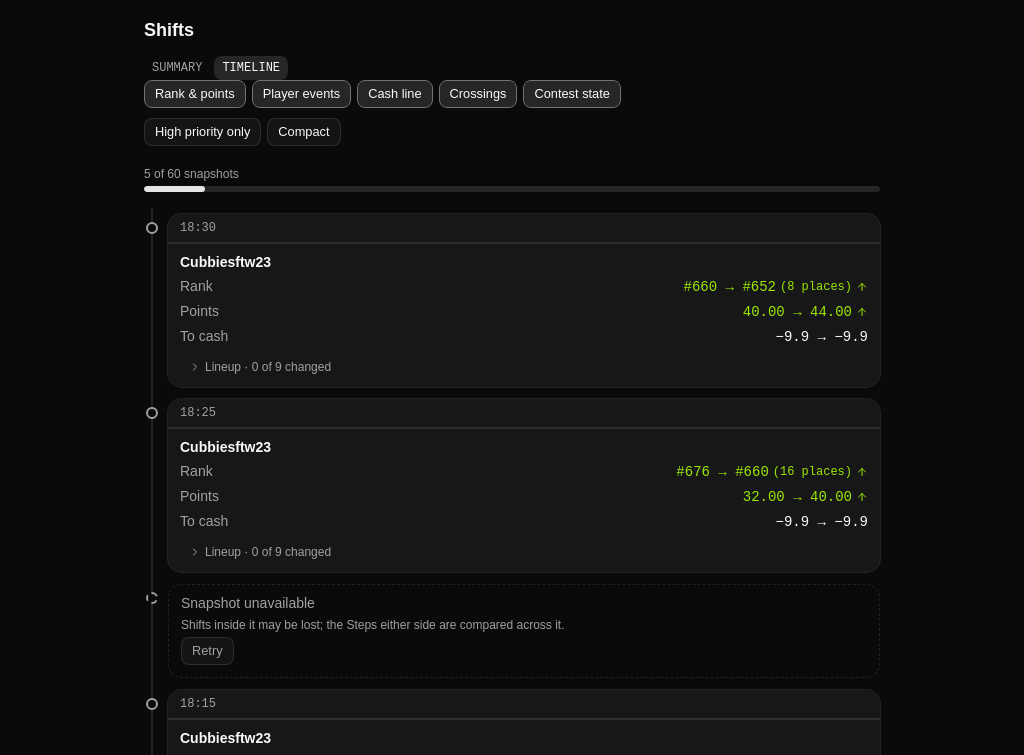
Test case: the Timeline tab › gaps › retries only the failed snapshot and fills the Step
This screenshot has width=1024, height=755.
Click the button "Retry": (207, 651) [181,637,234,665]
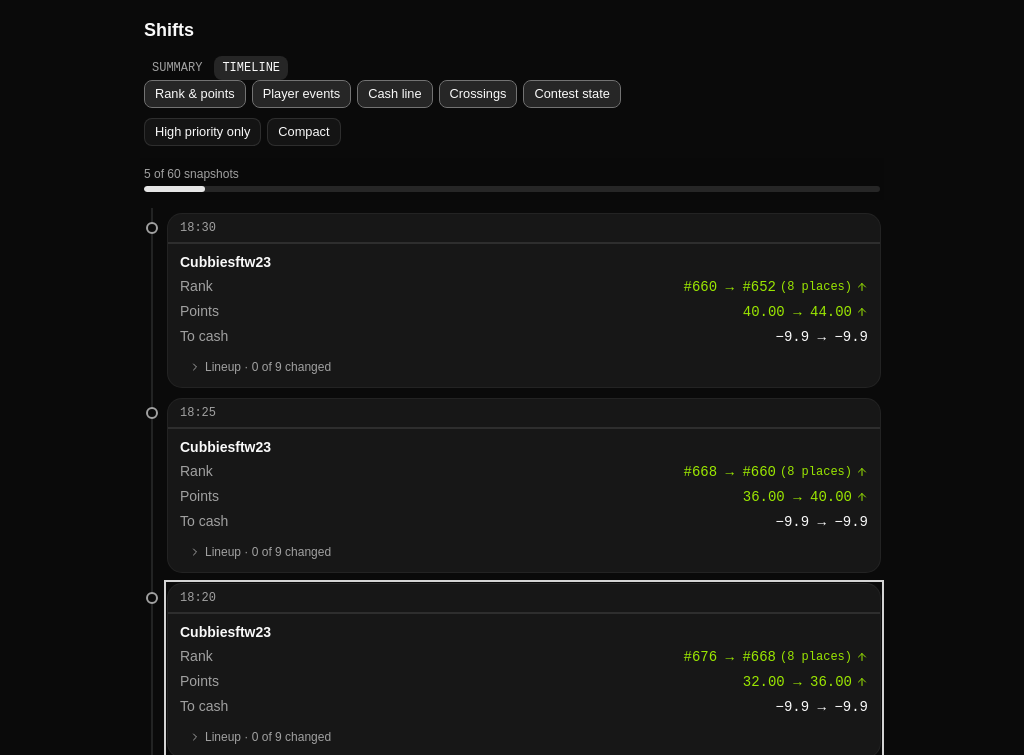
expect the text "Snapshot unavailable" is gone: met
